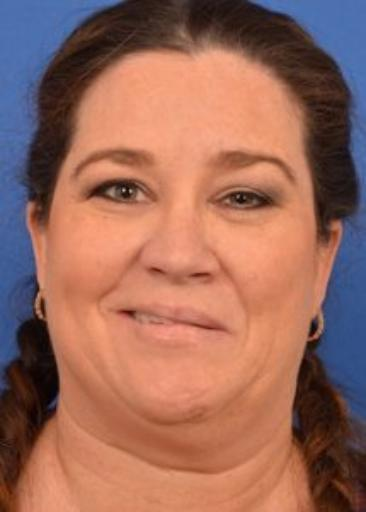left_eye: (210, 190, 274, 213)
left_lip_corner: (213, 321, 234, 338)
right_eye: (92, 179, 154, 205)
right_lip_corner: (108, 305, 131, 317)
